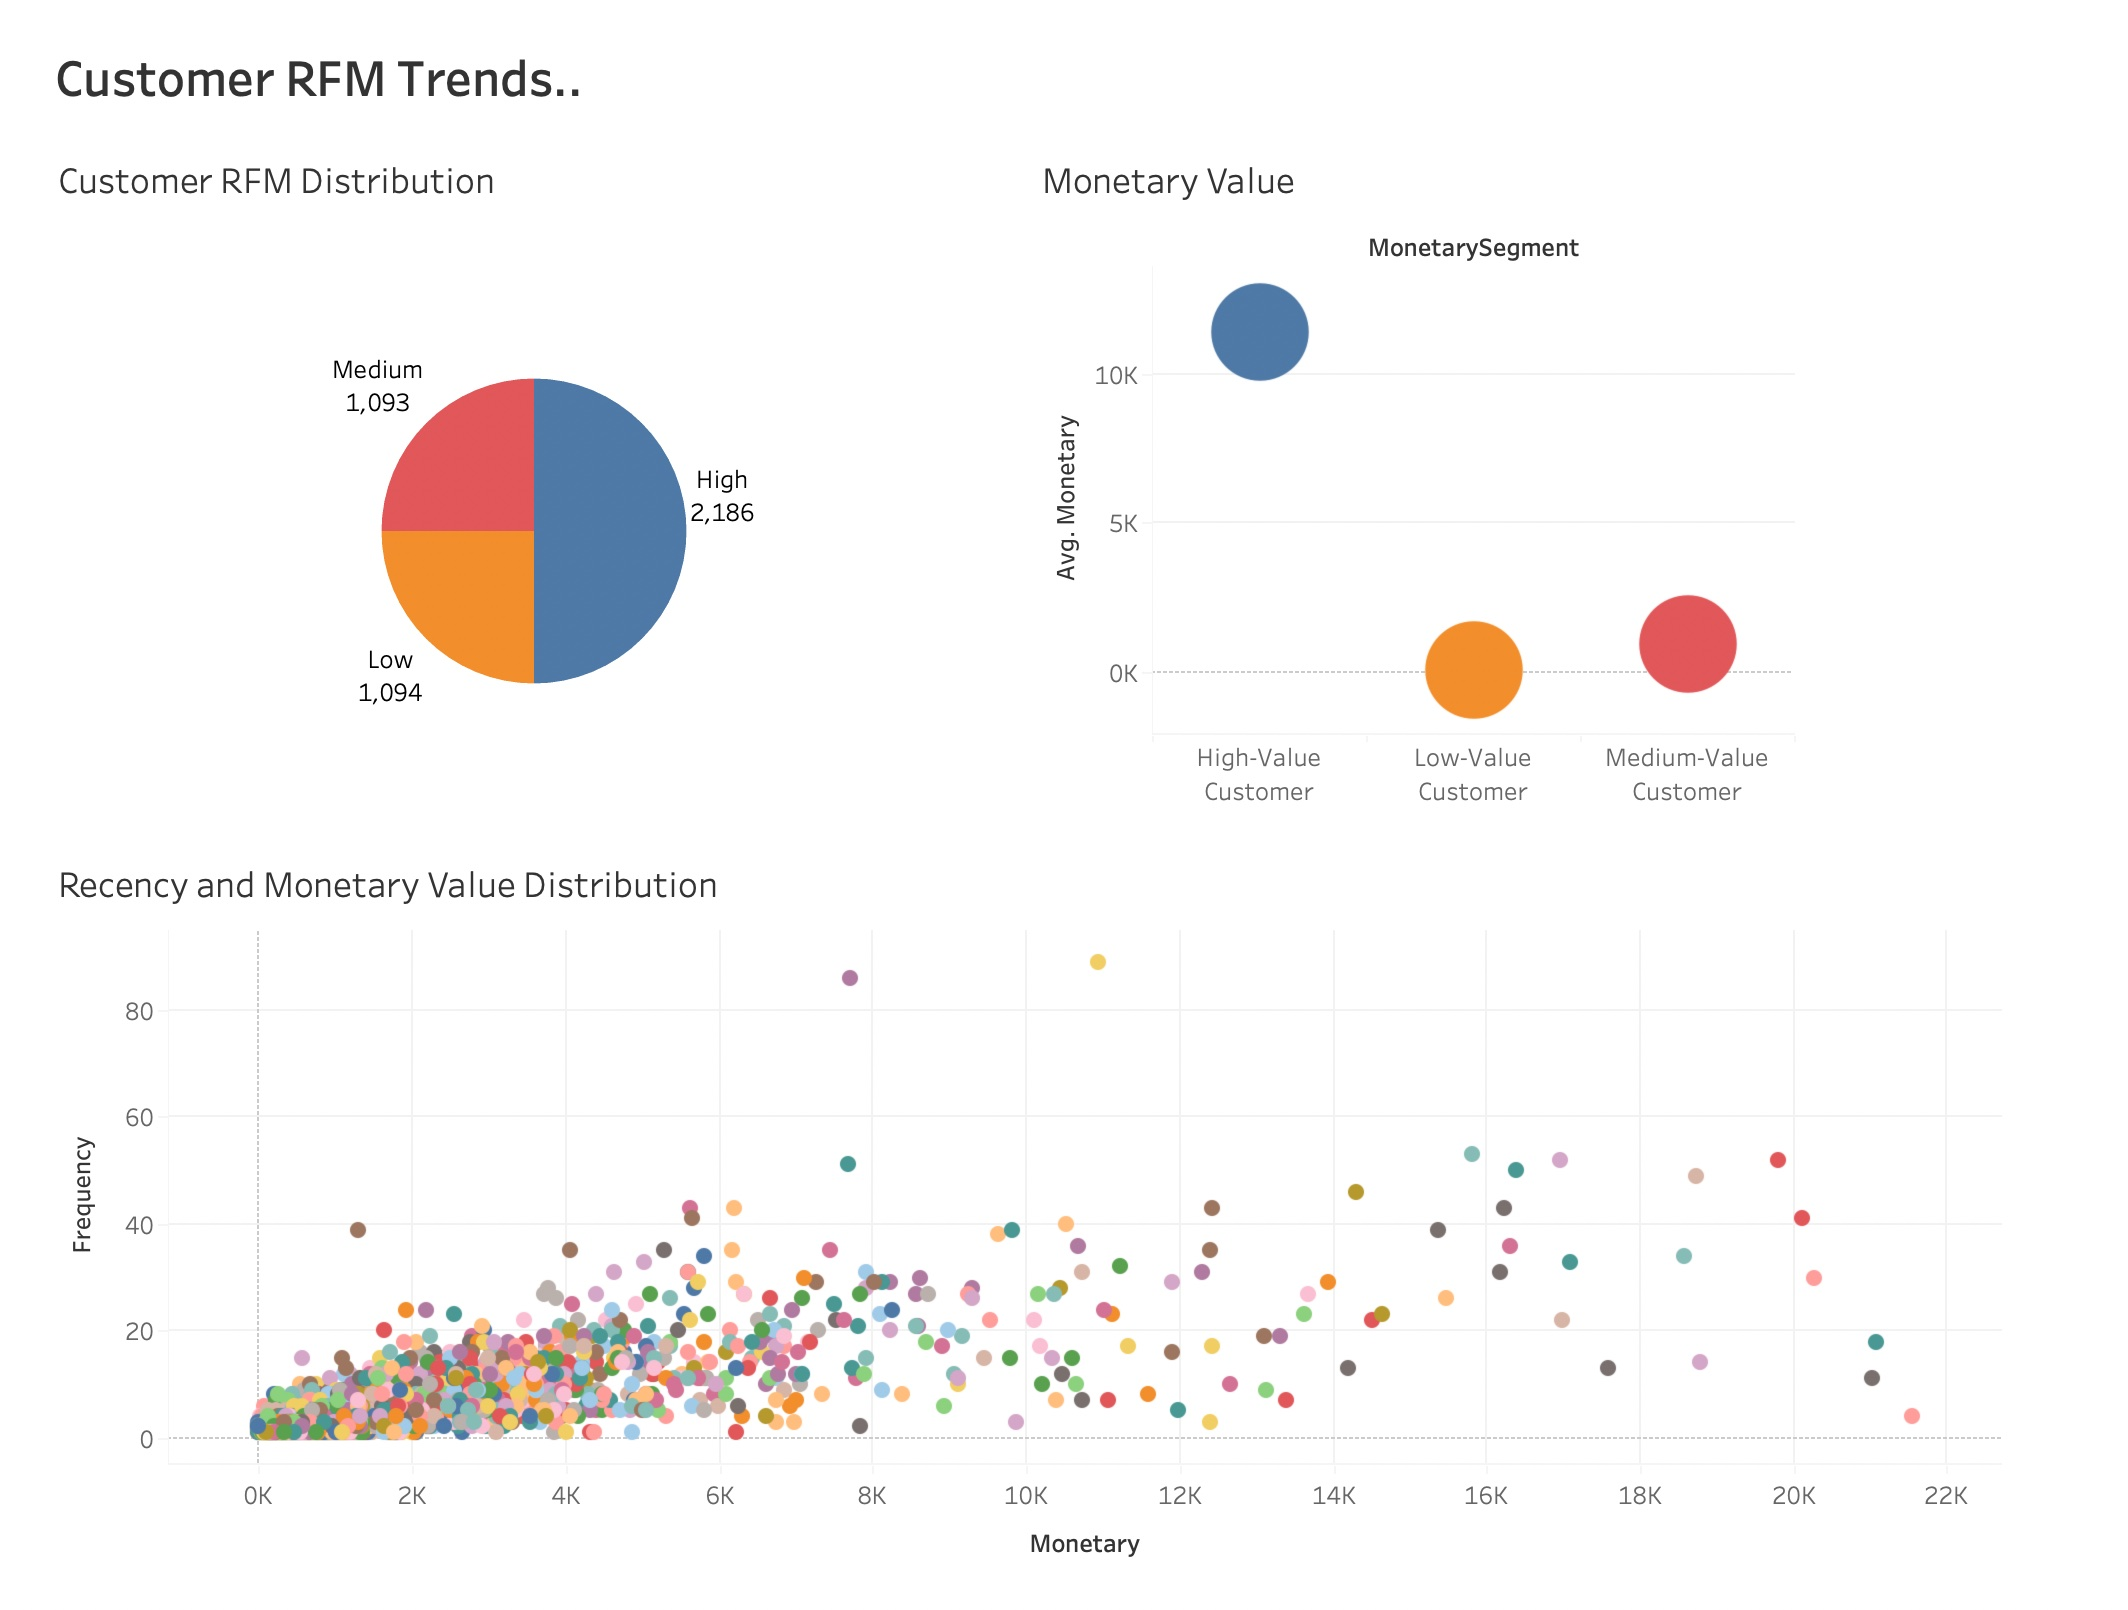

This screenshot's page, from the dashboard's own definition file:
{"tool":"tableau","page":{"name":"Dashboard 1","canvas":[1000,800],"ordinal":0},"visuals":[{"type":"title","box":[8,8,984,75]},{"type":"worksheet","title":"Sheet 11","mark":"Pie","box":[8,83,388,709]},{"type":"worksheet","title":"Sheet 12","mark":"Shape","rows":["Monetary"],"cols":["Recency"],"box":[396,83,596,709]},{"type":"legend","title":"Sheet 12","param":"[federated.0i5ynd00bf3w5w1aq6y280vr25mc].[none:Segment:nk]","box":[807,346,140,88]}]}

Visuals, with their boxes on the page's 1000x800 design canvas (x1, y1, x2, y2). These are canvas units, not pixel positions in the 2128x1610 screenshot, which may show the page scaled, cropped or inside an application window:
title: locate(8, 8, 992, 83)
"Sheet 11" worksheet (Pie marks): locate(8, 83, 396, 792)
"Sheet 12" worksheet (Shape marks): locate(396, 83, 992, 792)
"Sheet 12" legend: locate(807, 346, 947, 434)
